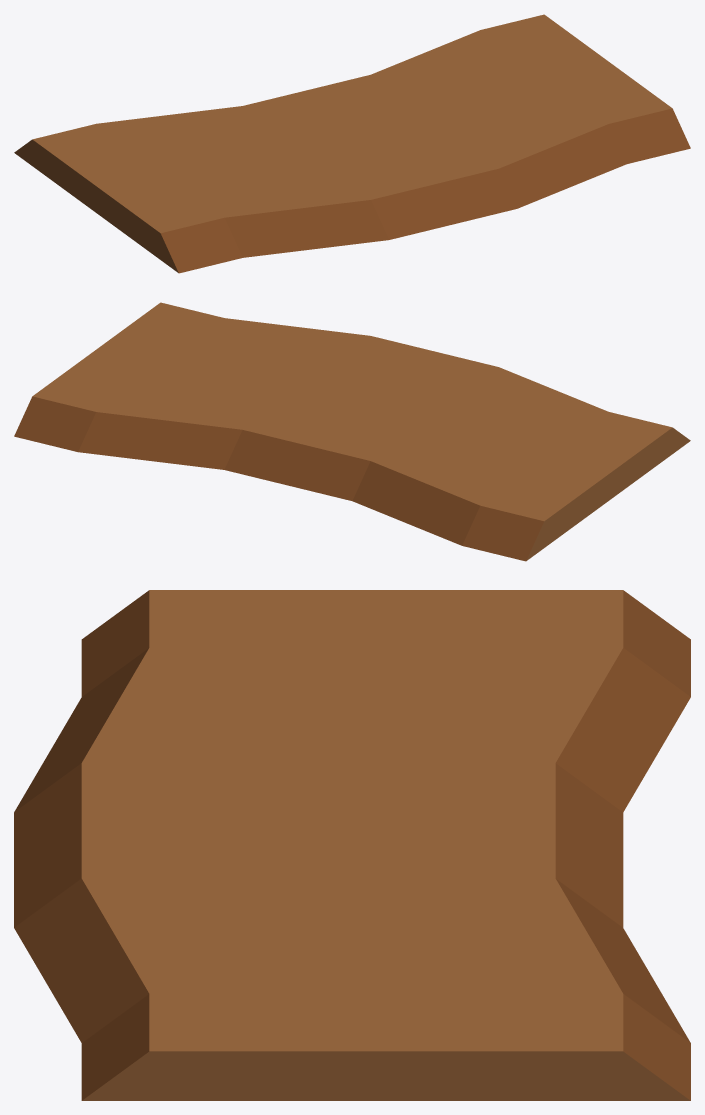
The model's file is crop-dirt.glb.
The picture shows the model from 3 angles, top to bottom: view 1: azimuth 30°, elevation 25°; view 2: azimuth 150°, elevation 25°; view 3: azimuth 270°, elevation 25°; orthographic projection. The views are drawn at different scales.
Visible parts, largest first — view 1: crop-dirt; view 2: crop-dirt; view 3: crop-dirt.
Boxes of the visible parts, left/top/right/bottom form: crop-dirt: left=14, top=14, right=690, bottom=273; crop-dirt: left=14, top=302, right=690, bottom=561; crop-dirt: left=14, top=590, right=690, bottom=1100.
Size of the model in its own units: 1 by 0.05 by 0.62.
